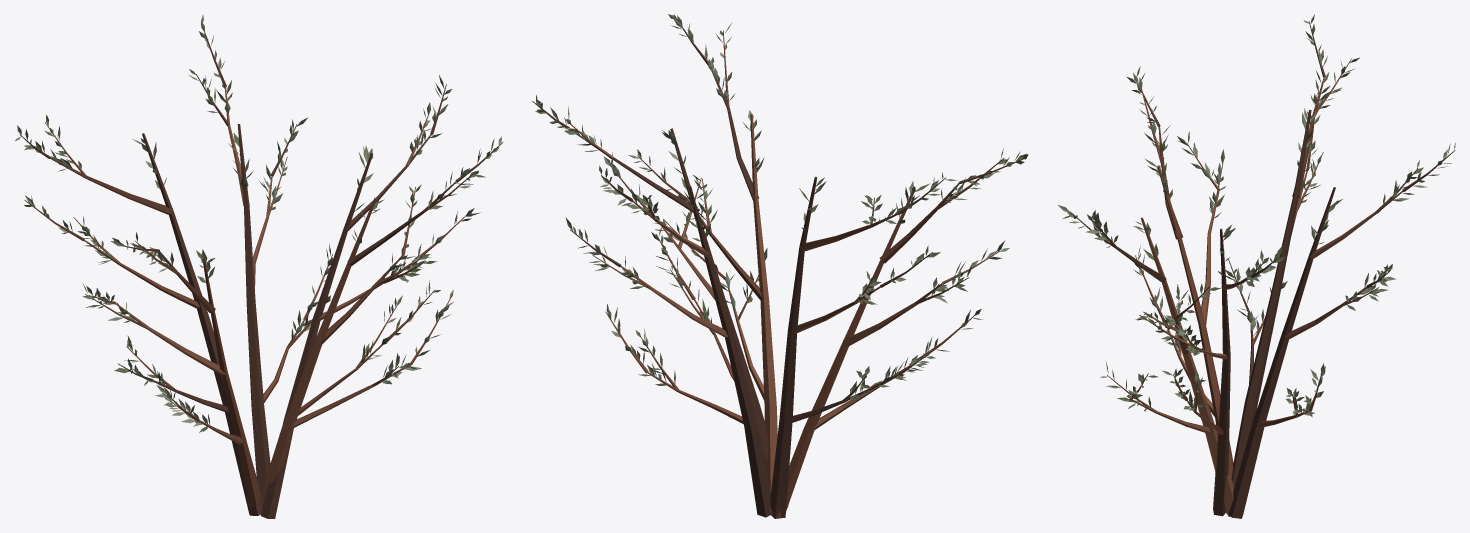
File: tamarisk.glb
3 views of the same model, side by side, from view 1: azimuth 30°, elevation 25°; view 2: azimuth 150°, elevation 25°; view 3: azimuth 270°, elevation 25° (orthographic). The views are drawn at different scales.
Size of the model in its own units: 1.13 by 1.05 by 0.9431.
